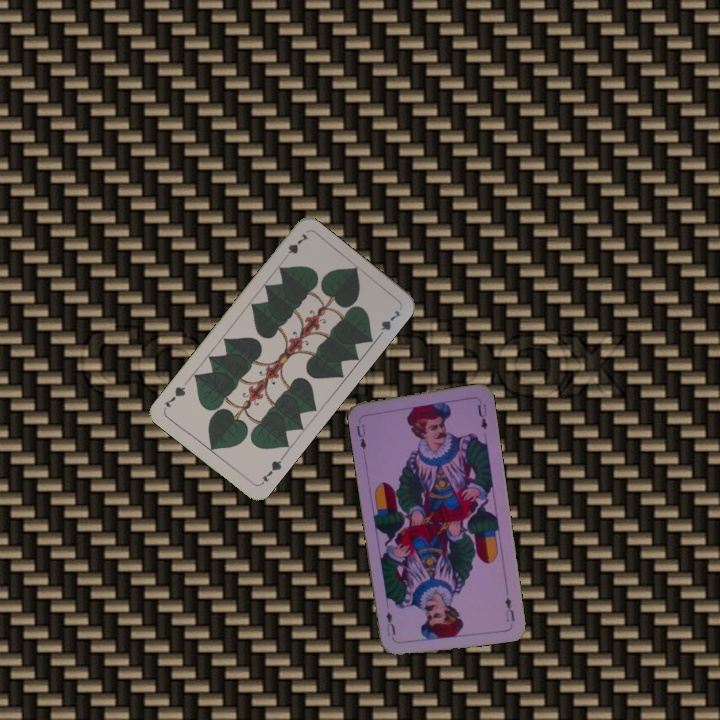EU: (352, 421, 369, 452), (501, 593, 517, 624)
G7: (278, 229, 311, 264), (257, 453, 286, 487)
